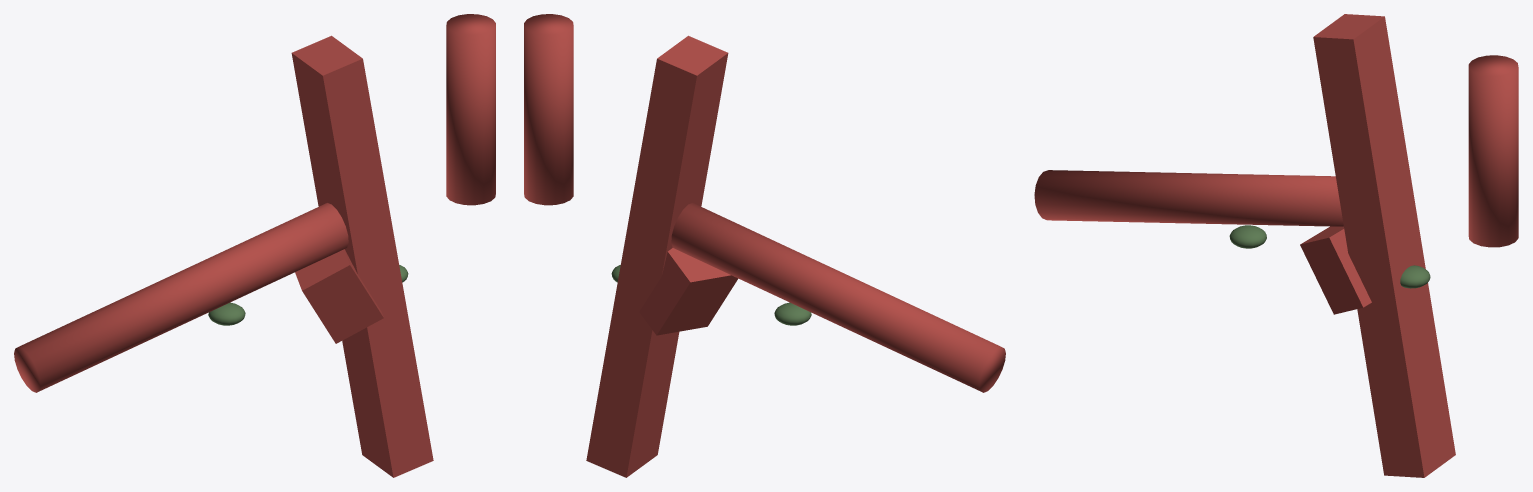
Rendered from prop_torii_taore.glb.
3 views of the same model, side by side, from view 1: azimuth 30°, elevation 25°; view 2: azimuth 150°, elevation 25°; view 3: azimuth 330°, elevation 25° (orthographic).
Visible parts, largest first — view 1: torii_taore; view 2: torii_taore; view 3: torii_taore.
Part boxes in pixels (bbox=[...]): torii_taore: bbox=[14, 14, 495, 477]; torii_taore: bbox=[524, 14, 1005, 477]; torii_taore: bbox=[1034, 14, 1518, 477].
Size of the model in its own units: 3.46 by 3.01 by 0.5426.
